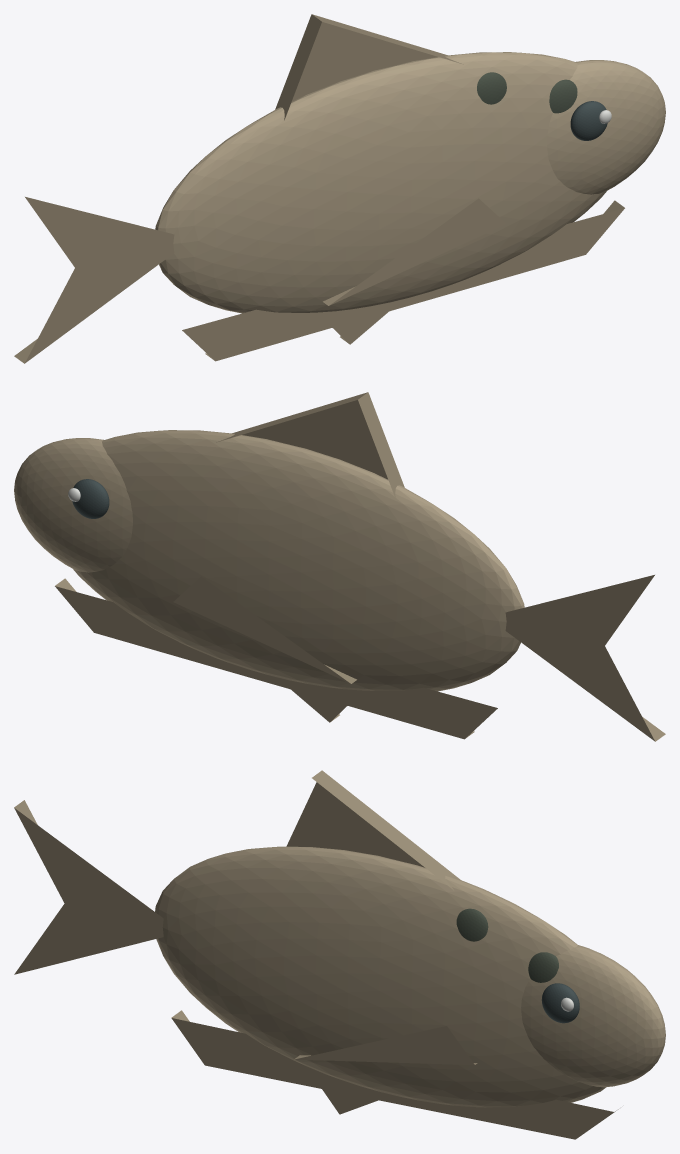
The model's file is flounder.glb.
3 renders of one model, top to bottom at view 1: azimuth 30°, elevation 25°; view 2: azimuth 150°, elevation 25°; view 3: azimuth 330°, elevation 25°, orthographic.
Visible parts, largest first — view 1: body, head, tail, long-anal, dorsal, pectoral1, eye1, upper-eye-2, upper-eye, anal; view 2: body, head, tail, long-anal, dorsal, pectoral-1, anal, eye-1; view 3: body, head, tail, long-anal, dorsal, pectoral1, anal, eye1, upper-eye-2, upper-eye.
Boxes of the visible parts, left/top/right/bottom form: body: left=155, top=52, right=606, bottom=313; head: left=547, top=60, right=665, bottom=194; tail: left=14, top=197, right=174, bottom=363; long-anal: left=182, top=200, right=624, bottom=361; dorsal: left=275, top=14, right=463, bottom=120; pectoral1: left=323, top=198, right=506, bottom=305; eye1: left=570, top=101, right=607, bottom=140; upper-eye-2: left=477, top=72, right=506, bottom=104; upper-eye: left=549, top=79, right=577, bottom=113; anal: left=332, top=300, right=401, bottom=344; body: left=73, top=430, right=524, bottom=691; head: left=14, top=438, right=132, bottom=572; tail: left=505, top=575, right=665, bottom=741; long-anal: left=55, top=578, right=497, bottom=739; dorsal: left=216, top=392, right=404, bottom=498; pectoral-1: left=173, top=576, right=356, bottom=683; anal: left=277, top=677, right=361, bottom=722; eye-1: left=72, top=479, right=109, bottom=518; body: left=155, top=846, right=606, bottom=1107; head: left=521, top=945, right=665, bottom=1087; tail: left=14, top=800, right=163, bottom=974; long-anal: left=171, top=1010, right=618, bottom=1139; dorsal: left=286, top=770, right=460, bottom=890; pectoral1: left=294, top=1026, right=477, bottom=1065; anal: left=306, top=1066, right=392, bottom=1114; eye1: left=541, top=983, right=579, bottom=1023; upper-eye-2: left=456, top=908, right=488, bottom=941; upper-eye: left=528, top=952, right=558, bottom=982.
Size of the model in its own units: 2.47 by 1.21 by 0.278.
